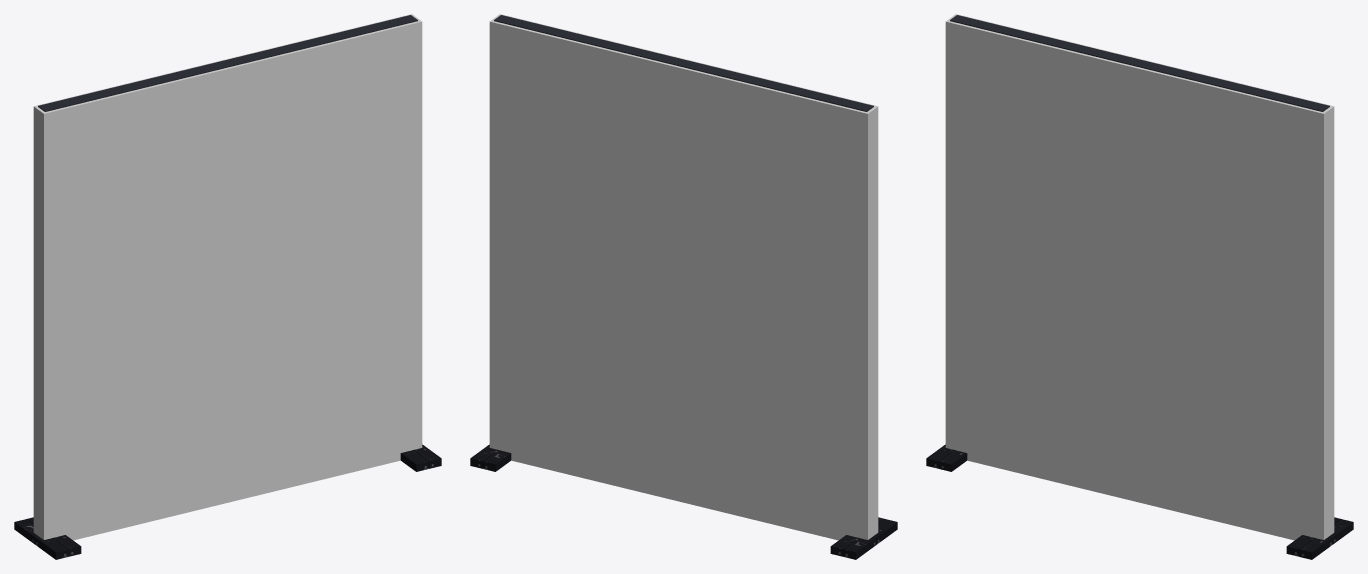
Rendered from Furn_Divider_Mesh.001.gltf.
3 views of the same model, side by side, from view 1: azimuth 30°, elevation 25°; view 2: azimuth 150°, elevation 25°; view 3: azimuth 330°, elevation 25° (orthographic).
Visible parts, largest first — view 1: Furn_Divider_Mesh.001_COL, Furn_Divider_Mesh.001; view 2: Furn_Divider_Mesh.001_COL, Furn_Divider_Mesh.001; view 3: Furn_Divider_Mesh.001_COL, Furn_Divider_Mesh.001.
Boxes of the visible parts, bbox=[...] form: Furn_Divider_Mesh.001_COL: bbox=[33, 14, 422, 540]; Furn_Divider_Mesh.001: bbox=[14, 15, 441, 559]; Furn_Divider_Mesh.001_COL: bbox=[489, 14, 878, 540]; Furn_Divider_Mesh.001: bbox=[470, 15, 897, 559]; Furn_Divider_Mesh.001_COL: bbox=[945, 14, 1334, 540]; Furn_Divider_Mesh.001: bbox=[926, 15, 1353, 559].
Bounding box in the file's own units: 2.14 × 2.31 × 0.4.
Materials: 5 (1 with a texture image).
